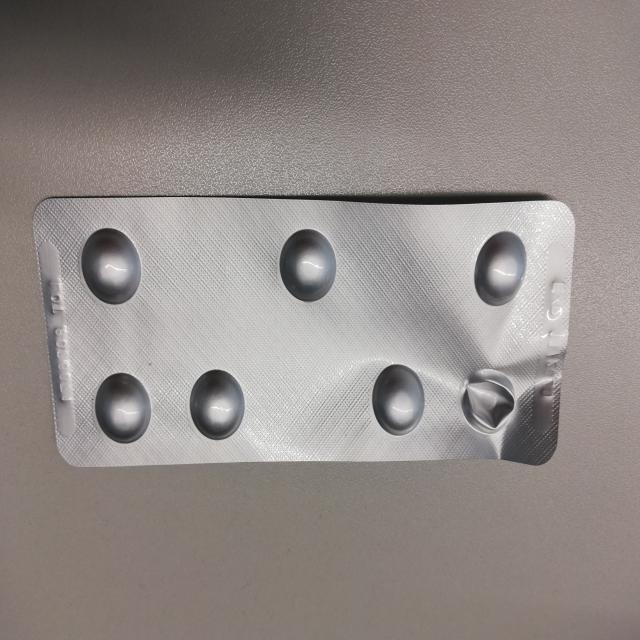Empty: (457, 363, 518, 443)
Pill: (76, 217, 146, 311), (275, 217, 340, 307), (186, 361, 252, 448), (368, 353, 431, 442), (88, 367, 154, 450), (471, 226, 533, 313)
